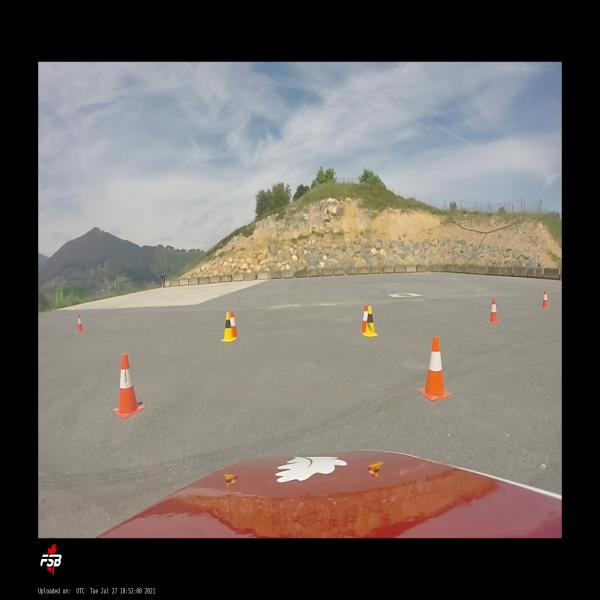orange_cone: (418, 336, 450, 400), (113, 353, 143, 419), (487, 298, 499, 324), (230, 311, 239, 338), (359, 306, 368, 332), (76, 315, 84, 333), (541, 291, 549, 308)
yellow_cone: (363, 307, 378, 336), (221, 313, 235, 341)
